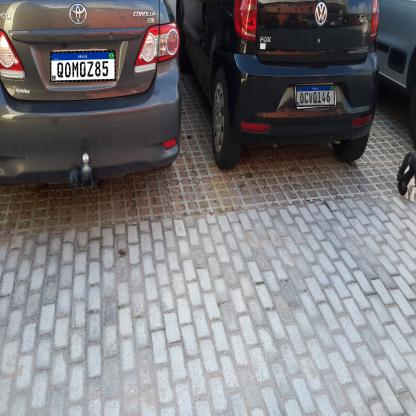PlacaM: (50, 50, 116, 82), (296, 84, 335, 107)
